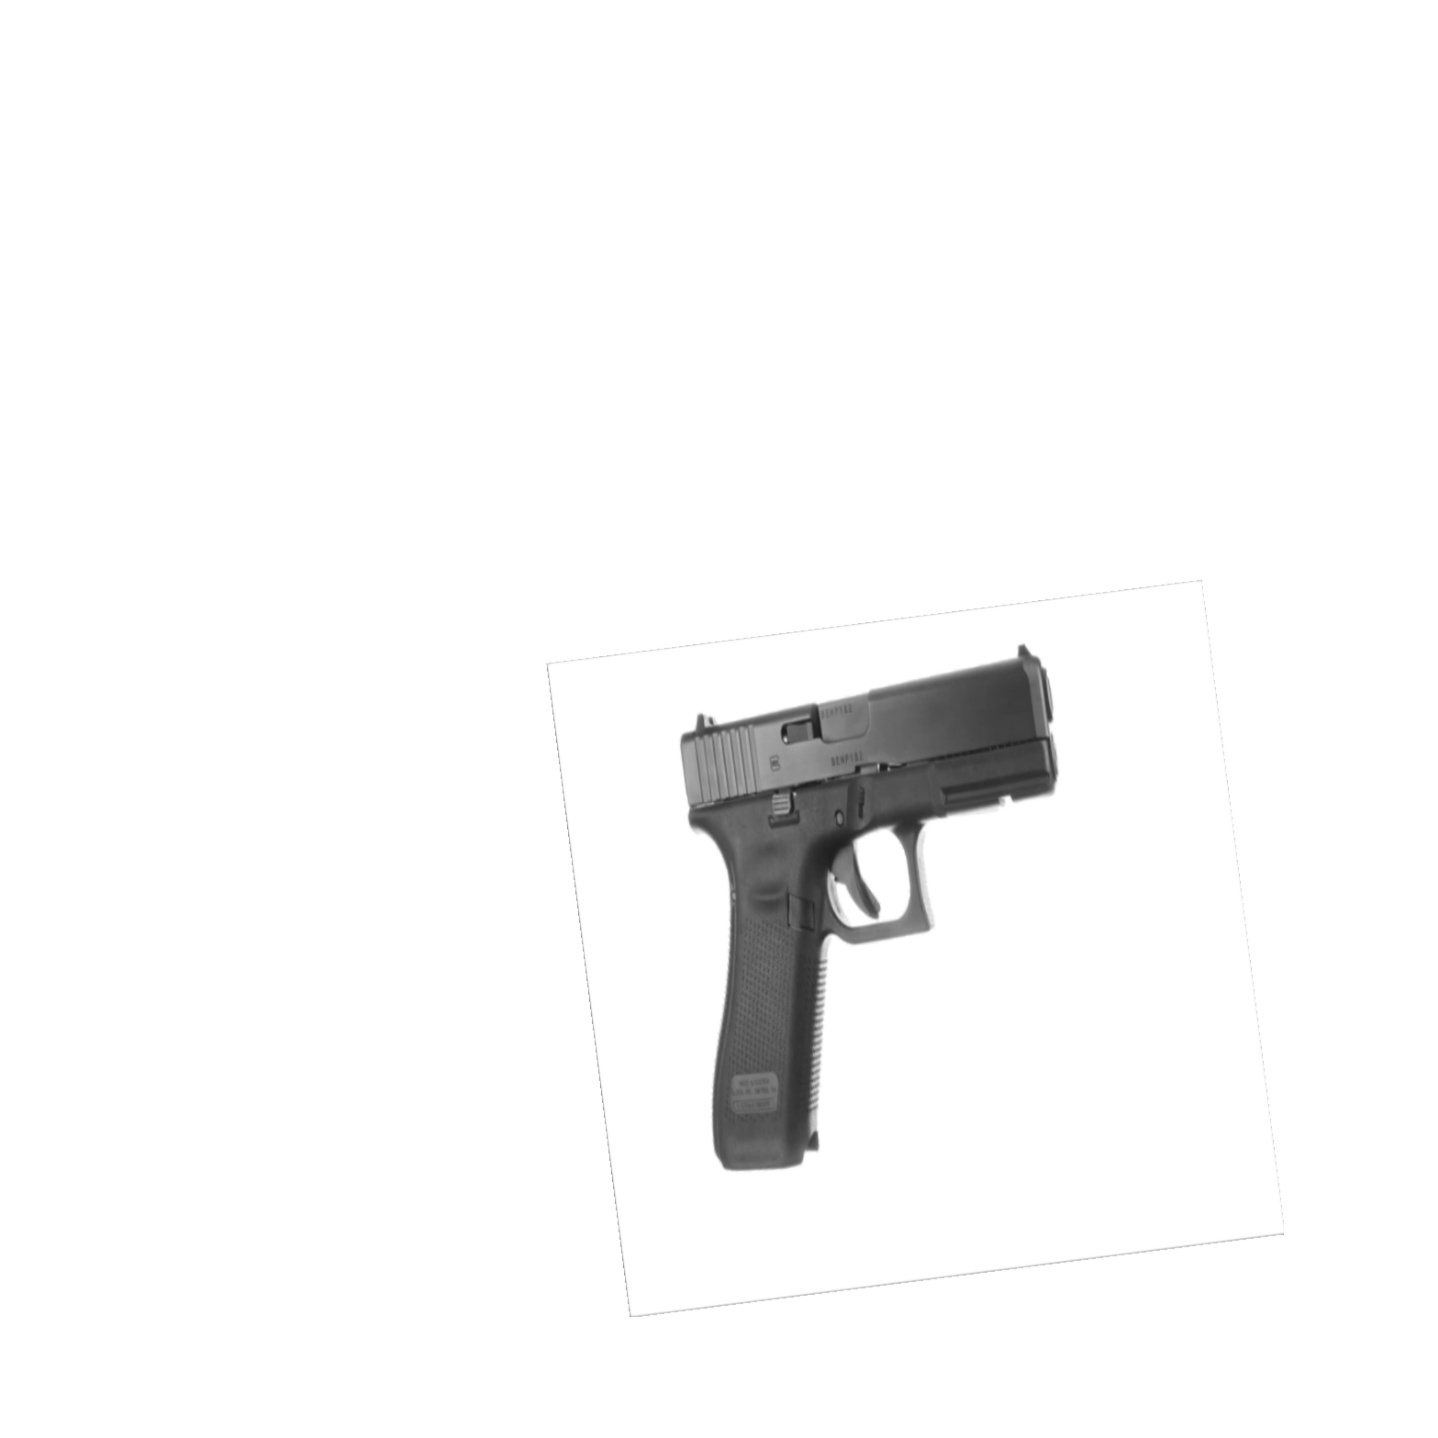gun: (660, 632, 1063, 1179)
